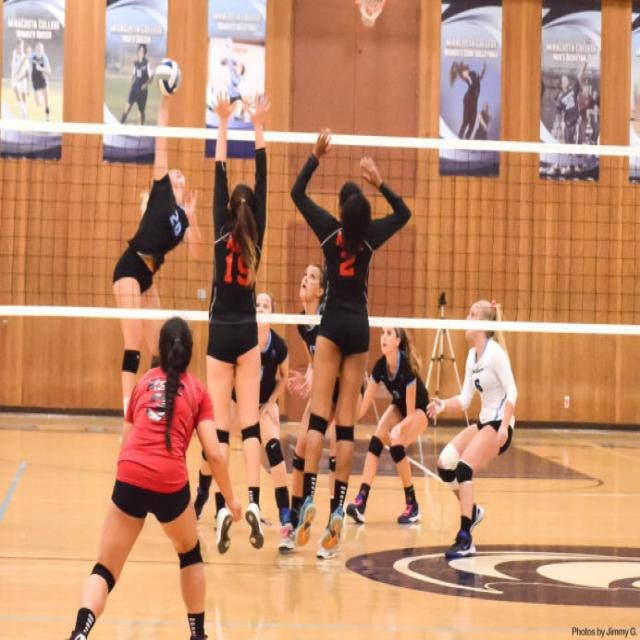body: (56, 312, 246, 639), (289, 125, 418, 554), (110, 56, 199, 443), (200, 88, 271, 553), (274, 260, 366, 560), (426, 296, 522, 560), (192, 291, 292, 534), (344, 319, 435, 526), (539, 54, 599, 144), (0, 26, 55, 122), (444, 53, 498, 145), (114, 30, 152, 130), (215, 36, 248, 123)
